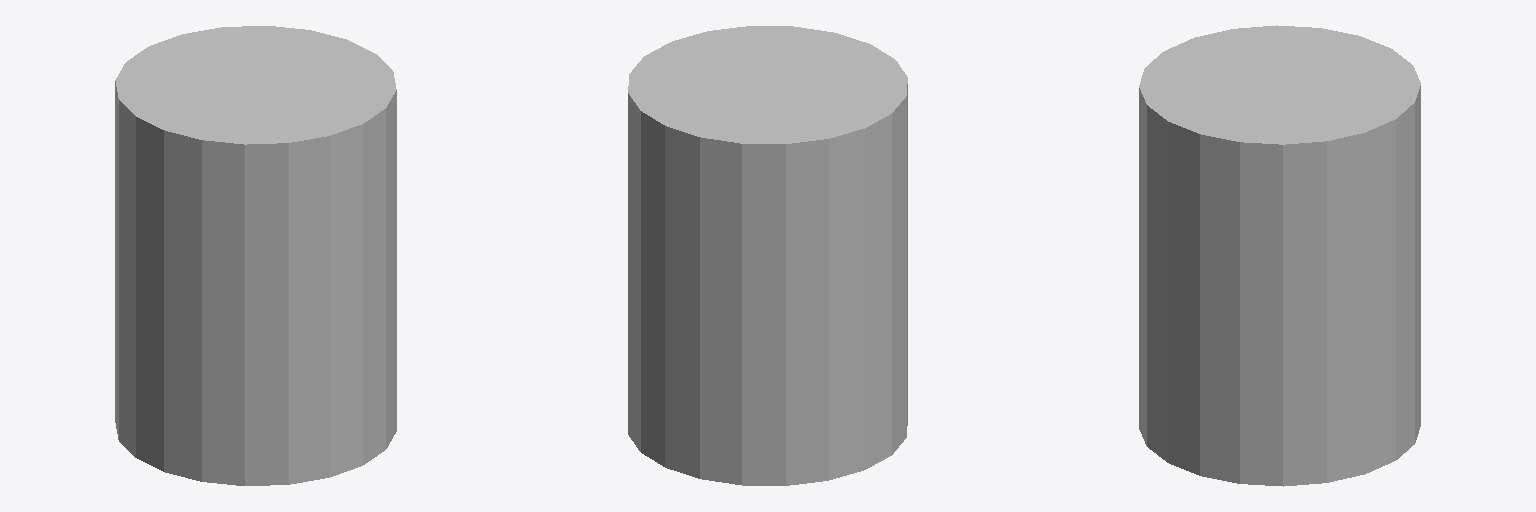
File: canned_food_6.obj
3 renders of one model, left to right at view 1: azimuth 30°, elevation 25°; view 2: azimuth 150°, elevation 25°; view 3: azimuth 270°, elevation 25°, orthographic.
Parts seen in each view (by area): view 1: canned_food_6:pCylinder1; view 2: canned_food_6:pCylinder1; view 3: canned_food_6:pCylinder1.
Part boxes in pixels (x1,y1,x2,y2): canned_food_6:pCylinder1: (115, 26, 396, 485); canned_food_6:pCylinder1: (628, 26, 907, 485); canned_food_6:pCylinder1: (1139, 25, 1420, 486).
Size of the model in its own units: 0.6734 by 0.9 by 0.6734.